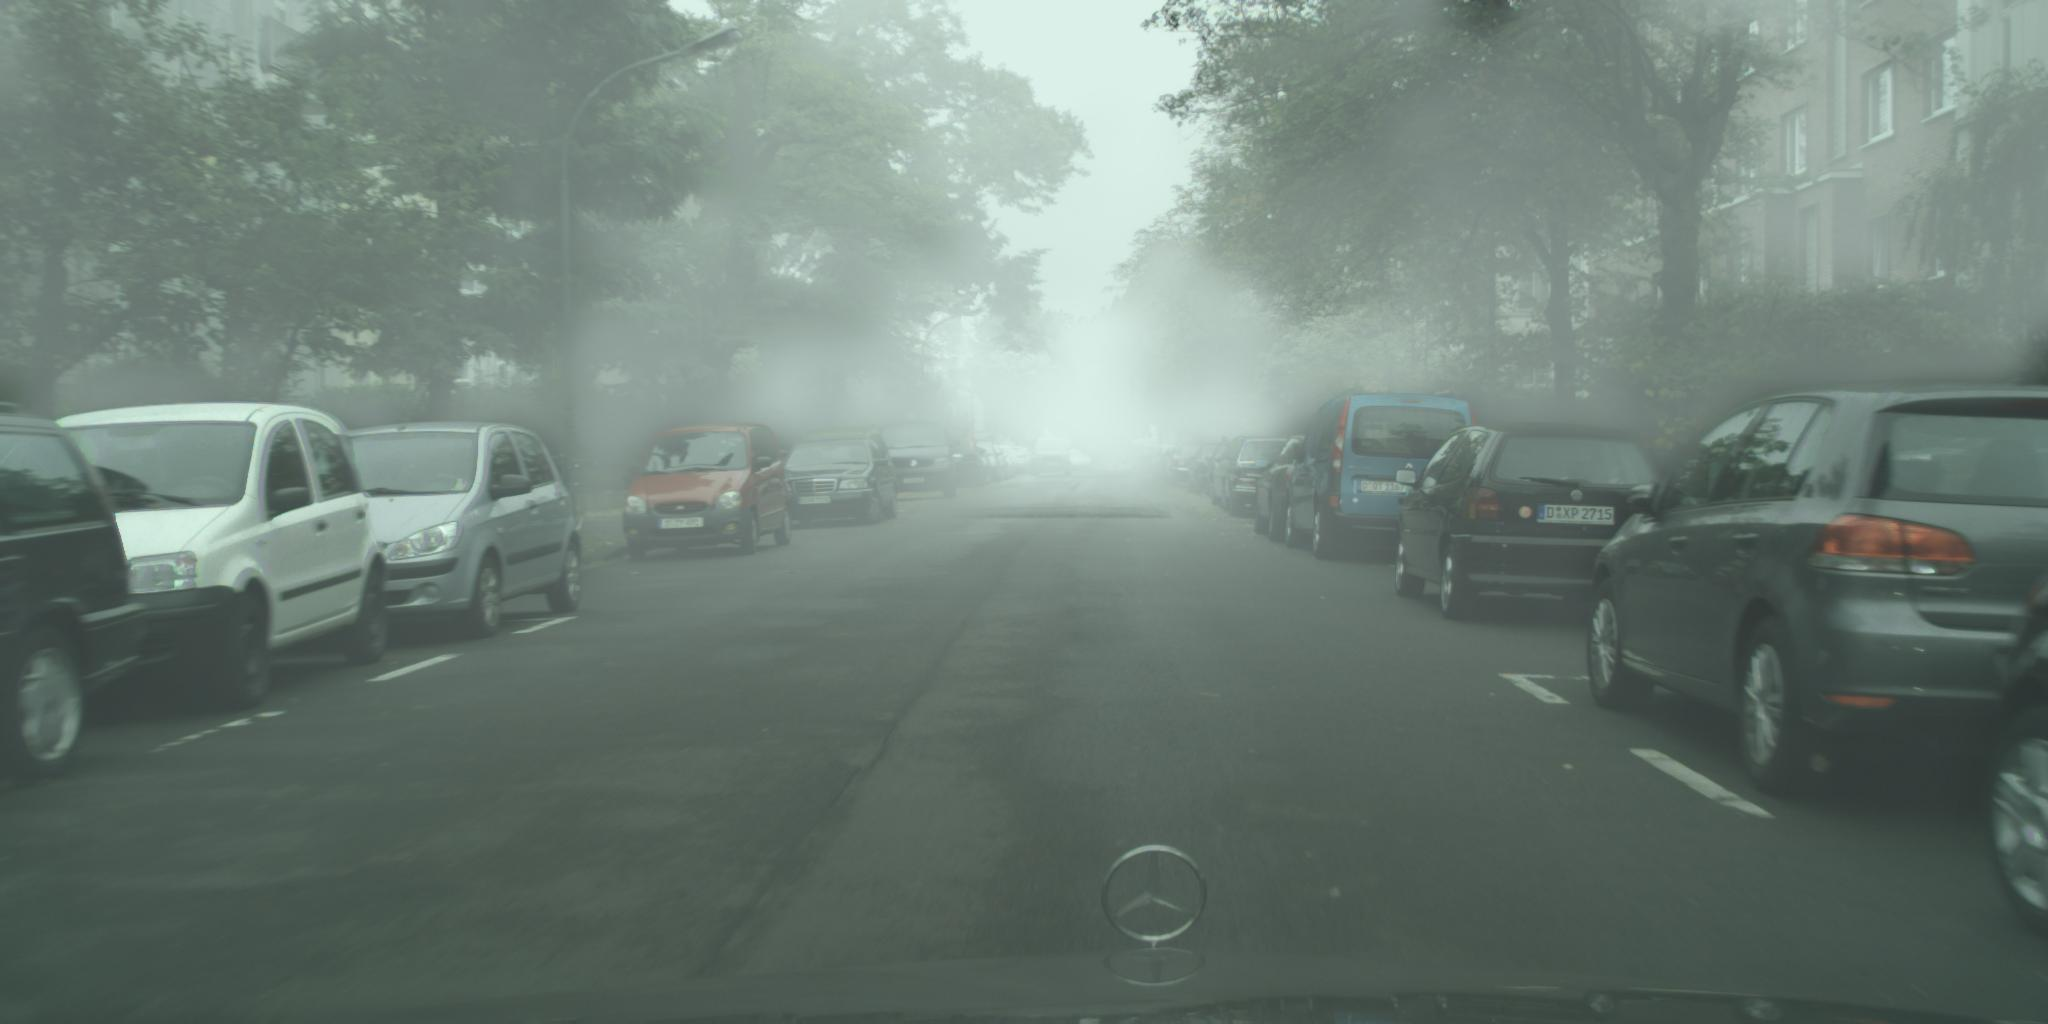bicycle: (545, 451, 598, 530)
car: (1586, 383, 2048, 795), (34, 404, 389, 711), (1395, 423, 1681, 623), (323, 421, 584, 637), (1, 404, 150, 781), (1287, 385, 1481, 562), (1981, 572, 2048, 944), (624, 423, 795, 562), (778, 426, 900, 533), (1255, 436, 1324, 543), (872, 422, 961, 500), (1221, 438, 1293, 519), (1209, 438, 1253, 511), (947, 435, 986, 488), (1126, 438, 1199, 462), (1031, 438, 1074, 477), (1166, 443, 1204, 487), (1206, 443, 1234, 498), (1189, 445, 1220, 495), (1085, 449, 1138, 472), (1067, 451, 1095, 472)
